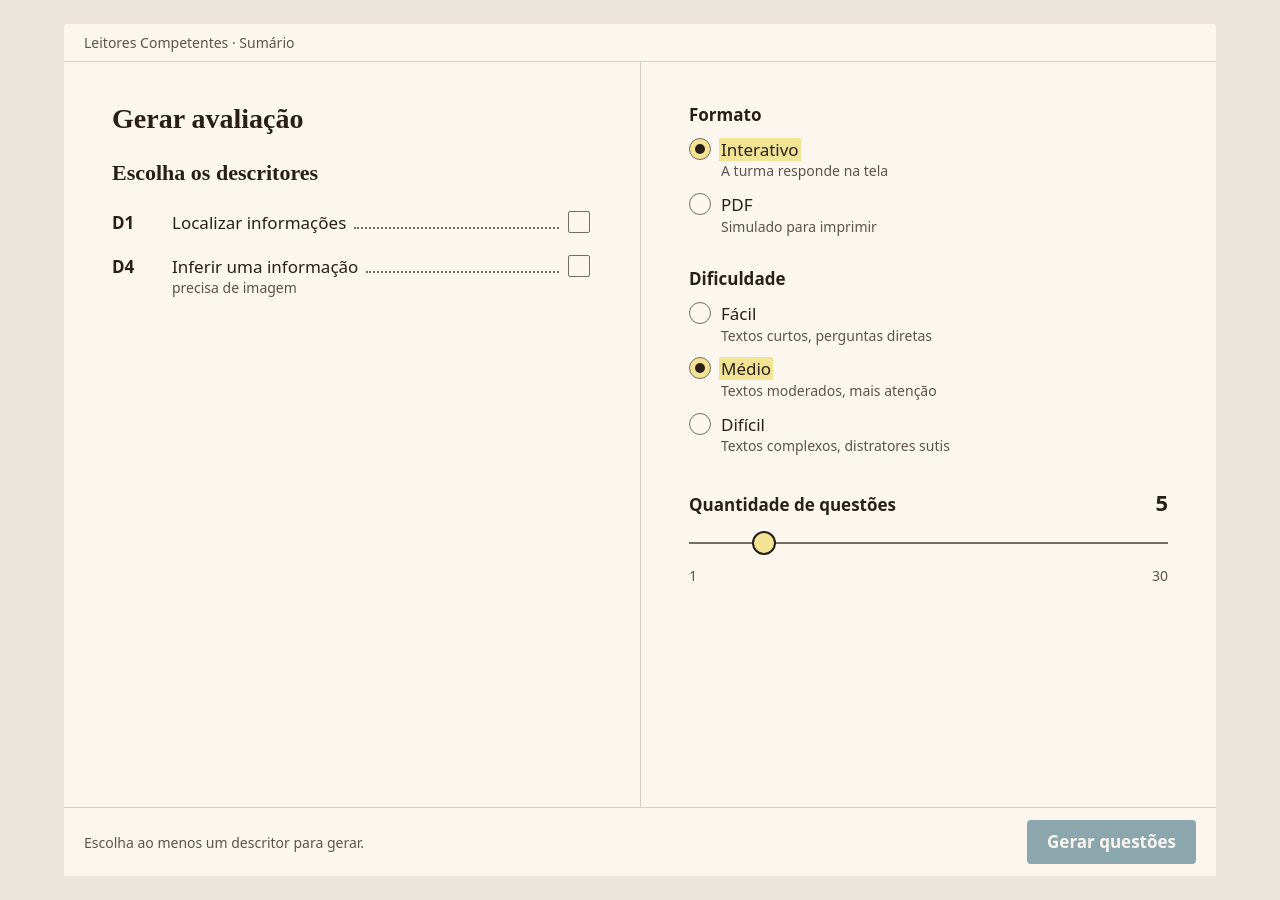
Test: SelectScreen › starts with every question kept and marks the right answer
Click the checkbox labelled "D1 Localizar informações" at (579, 222), box [568,211,590,233]
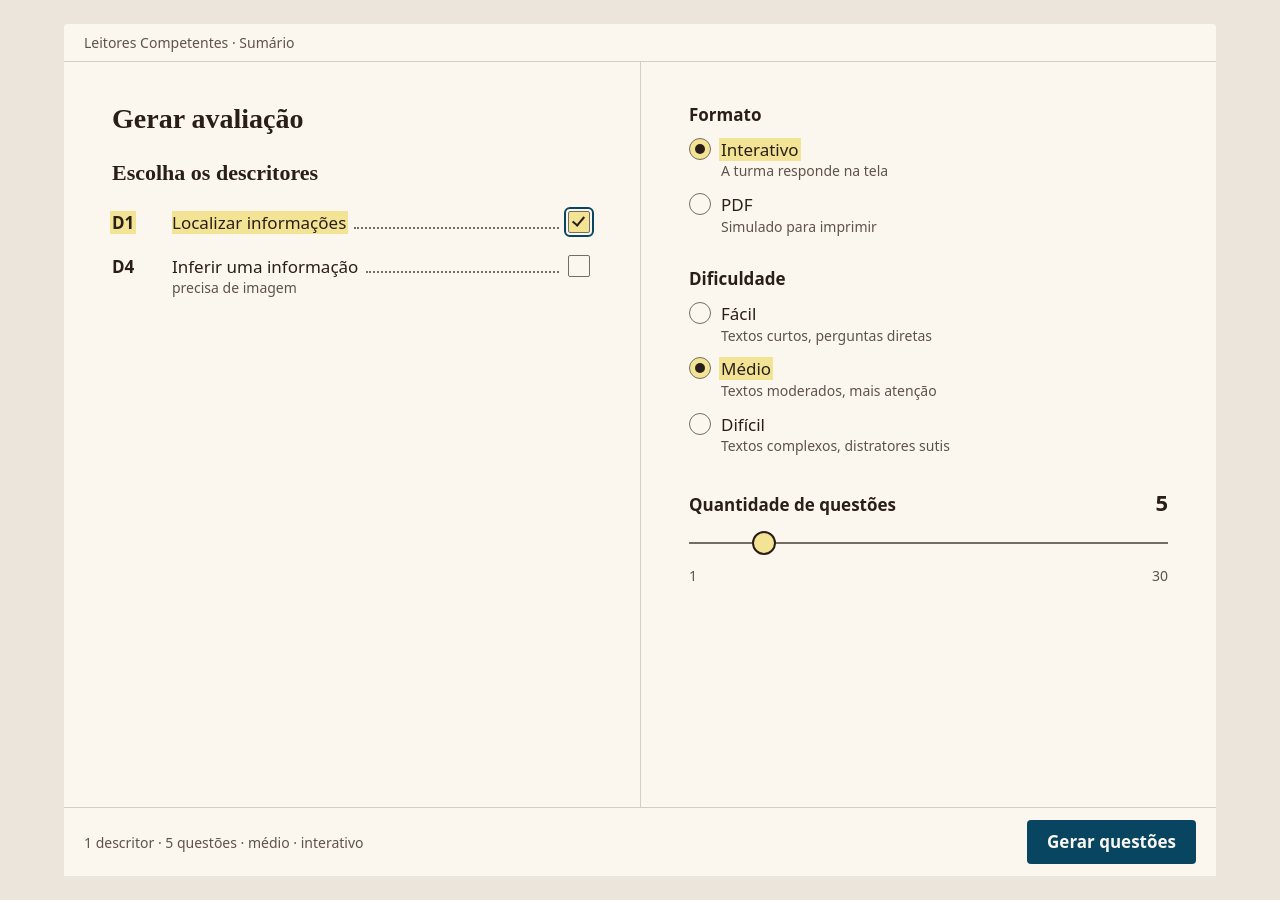
Click the radio button labelled "PDF Simulado para imprimir" at (700, 204), box [689,193,711,215]
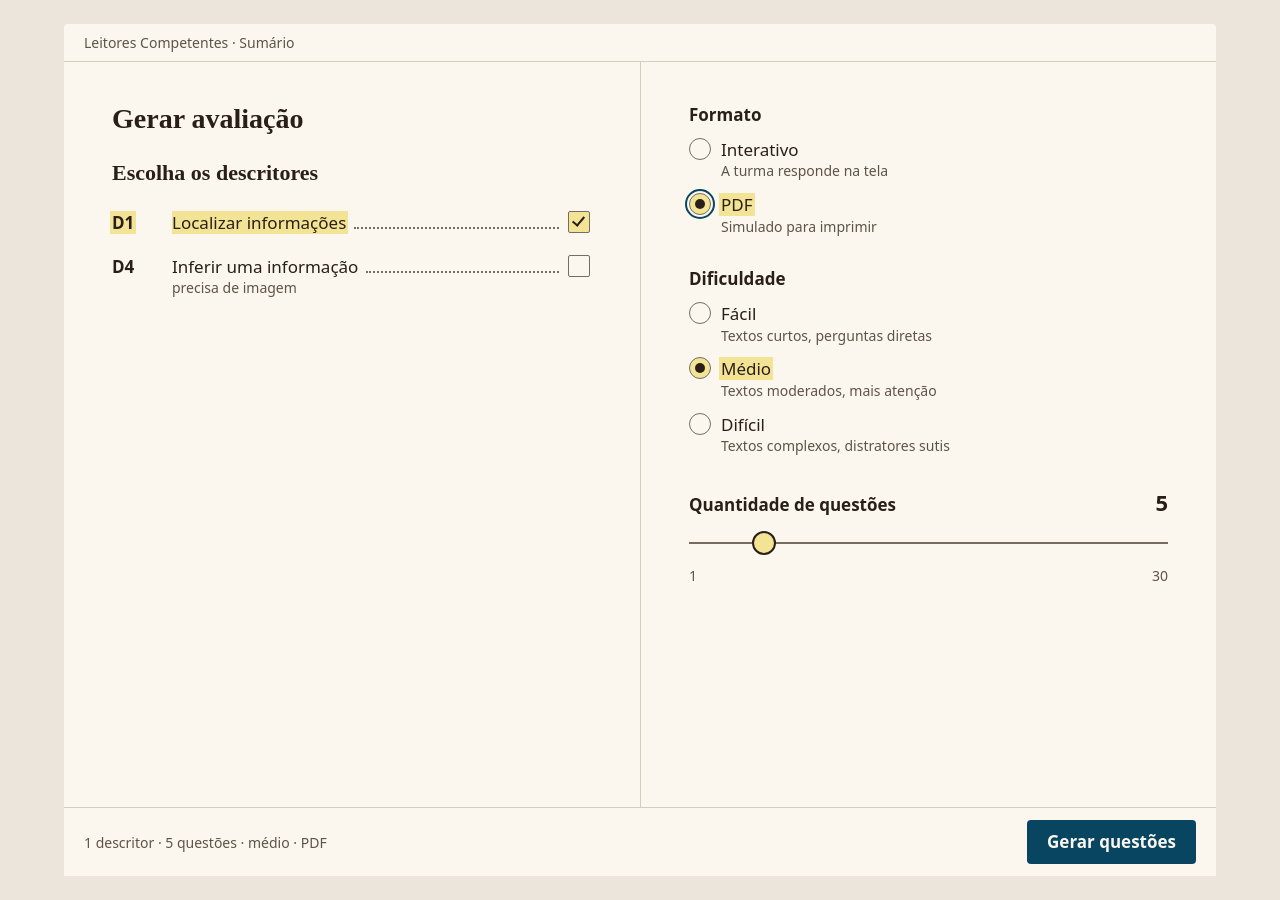
Click the button "Gerar questões" at (1112, 842), box [1027,820,1196,864]
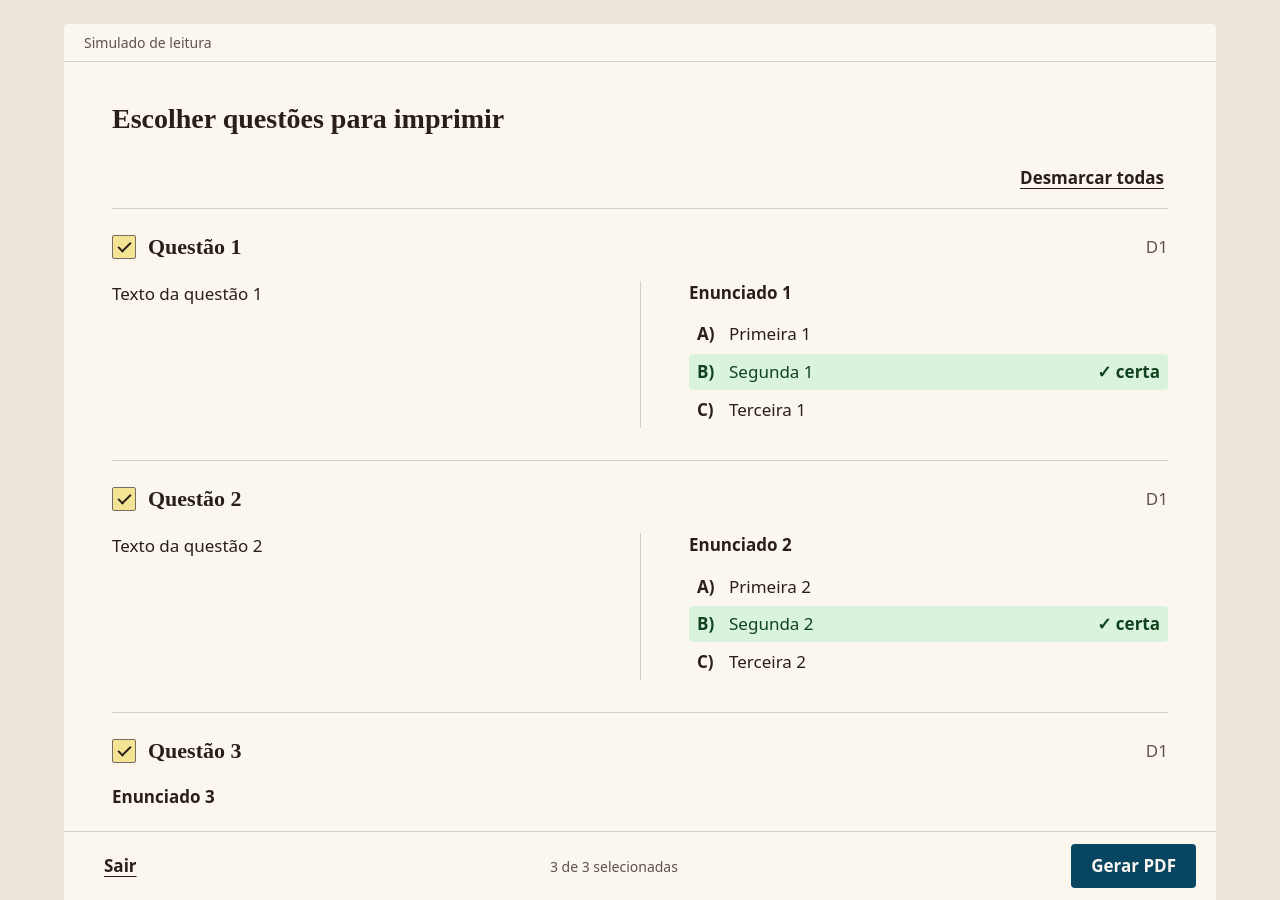
Expected: the message reads "3 de 3 selecionadas", [550,856,678,876]
Expected: the number of checkboxes is 3, [112,235,136,259]; [112,487,136,511]; [112,739,136,763]
Expected: the text "certa" is shown 3 times, [1097,360,1160,384]; [1097,612,1160,636]; [1097,865,1160,888]
